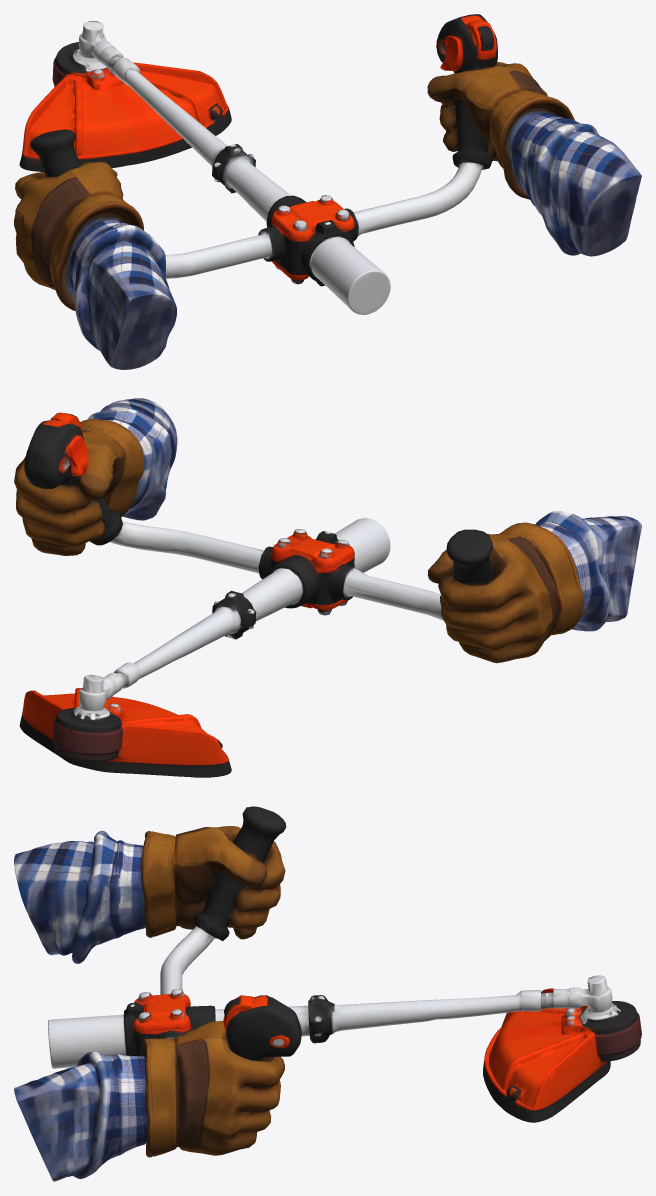
File: eller-gidon-ham-1.glb
3 views of the same model, one above another, from view 1: azimuth 30°, elevation 25°; view 2: azimuth 150°, elevation 25°; view 3: azimuth 270°, elevation 25° (orthographic).
Parts seen in each view (by area): view 1: tripo_node_efe32eca-143f-4844-9c84-b80b20334314; view 2: tripo_node_efe32eca-143f-4844-9c84-b80b20334314; view 3: tripo_node_efe32eca-143f-4844-9c84-b80b20334314.
Part boxes in pixels (<box>): tripo_node_efe32eca-143f-4844-9c84-b80b20334314: <box>14,14,641,369</box>; tripo_node_efe32eca-143f-4844-9c84-b80b20334314: <box>14,398,641,777</box>; tripo_node_efe32eca-143f-4844-9c84-b80b20334314: <box>14,806,641,1181</box>.
Bounding box in the file's own units: 0.9527 × 0.302 × 0.9801.
1 material, 1 textured.
